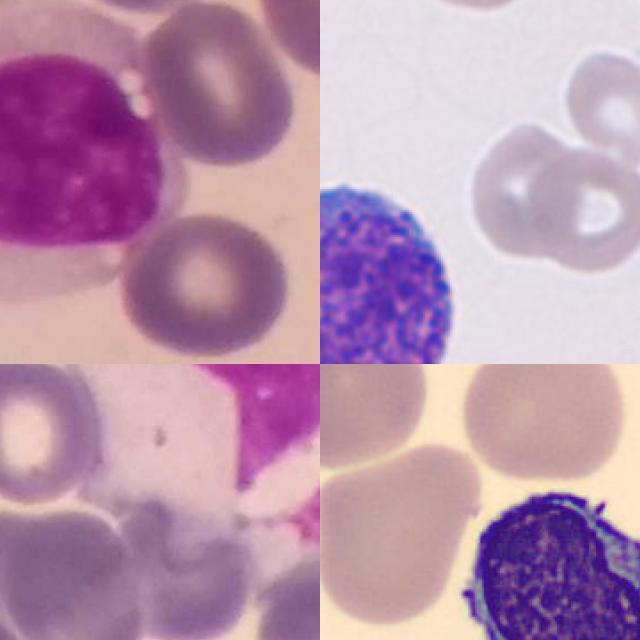Lymphocyte: (445, 470, 640, 640), (320, 169, 473, 364)
Monocyte: (0, 0, 184, 305), (74, 364, 320, 537)
RBC: (320, 437, 484, 632), (512, 0, 640, 175), (452, 364, 631, 484), (466, 114, 581, 264), (523, 148, 640, 278), (320, 364, 434, 472), (556, 43, 640, 169), (391, 0, 547, 16), (611, 0, 640, 27)
